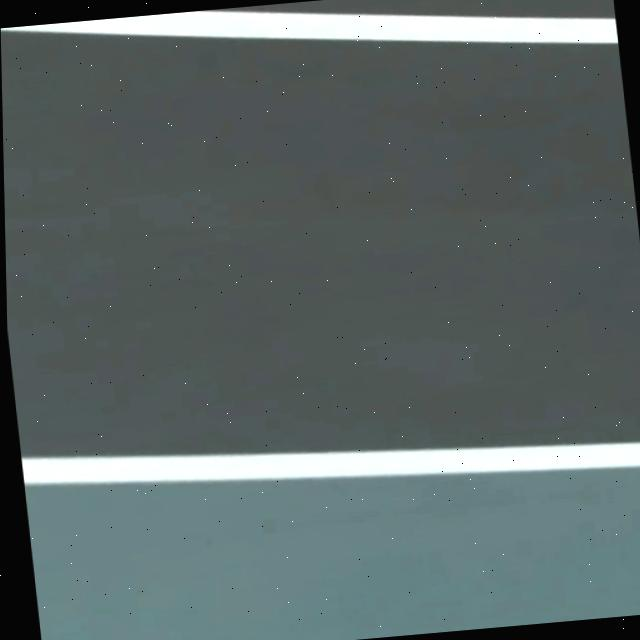center: (1, 9, 618, 43)
left: (21, 441, 640, 484)
